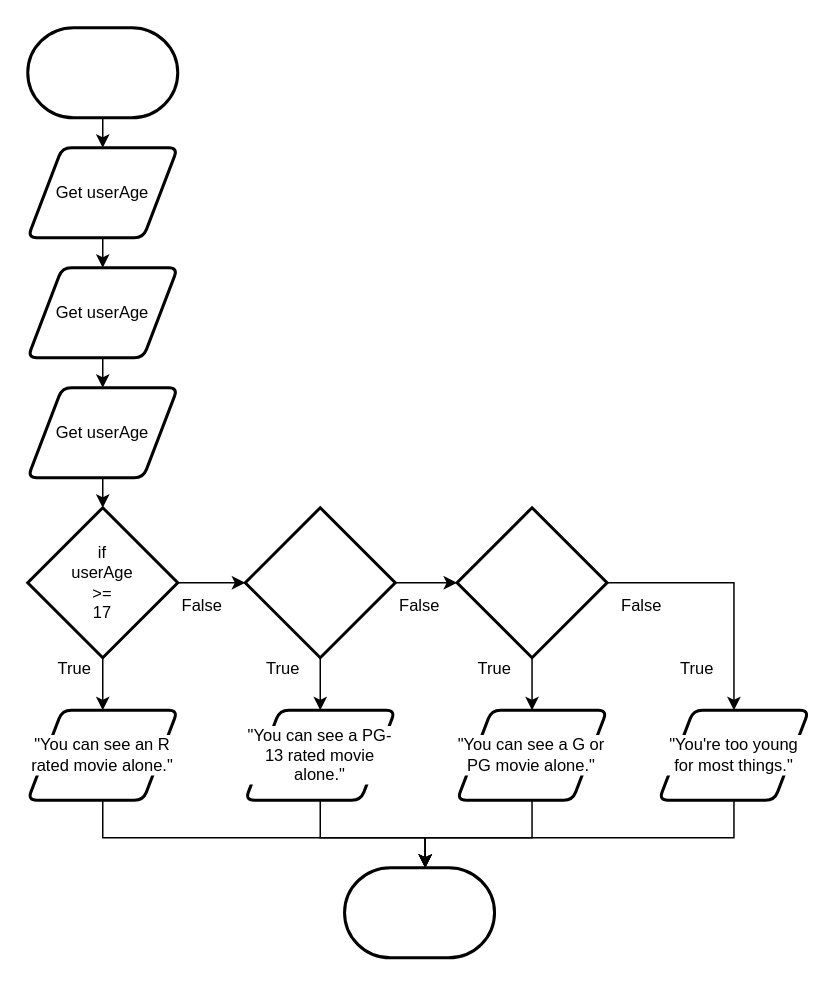
Some shapes in this 836 by 984 pixel diagram are drawn without their labels. The box of each missing label's shape, as (x1, y1, x2, y2) in pixels:
else if userAge >= 13: (243, 506, 396, 658)
else if userAge >= 5: (455, 506, 608, 658)
Start: (26, 26, 178, 118)
Stop: (342, 866, 495, 958)
